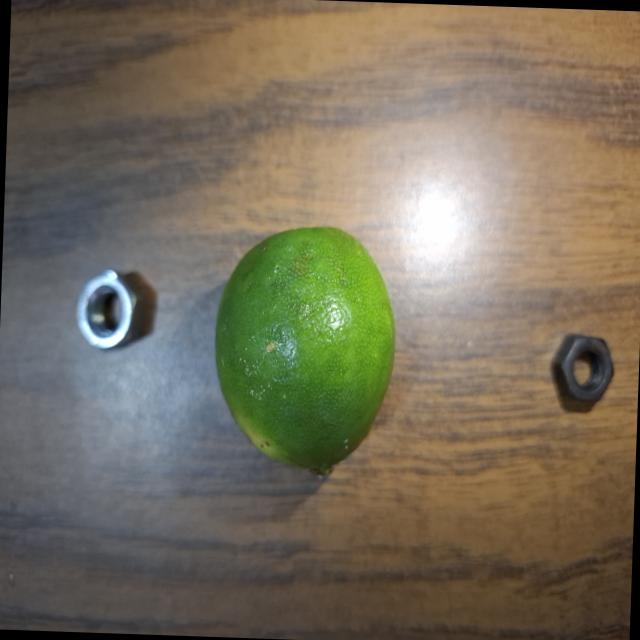limon: (200, 214, 402, 496)
milimetrico: (534, 330, 618, 415)
tuerca: (59, 250, 148, 376)
